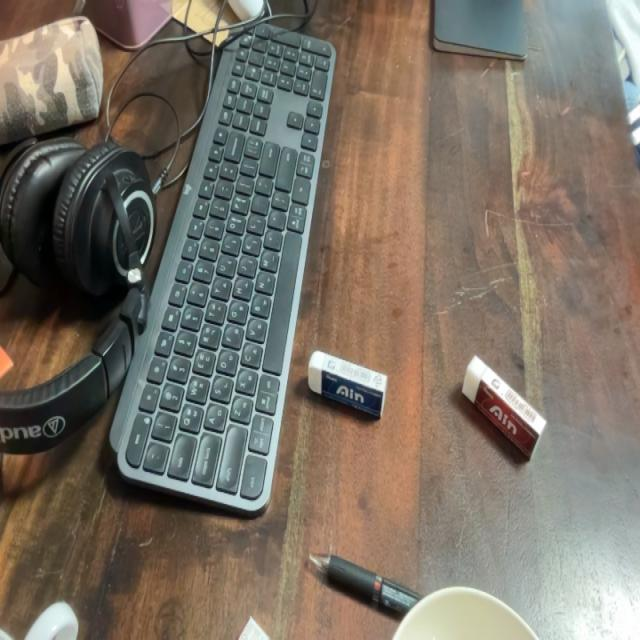blue: (304, 338, 396, 444)
red: (458, 339, 552, 476)
